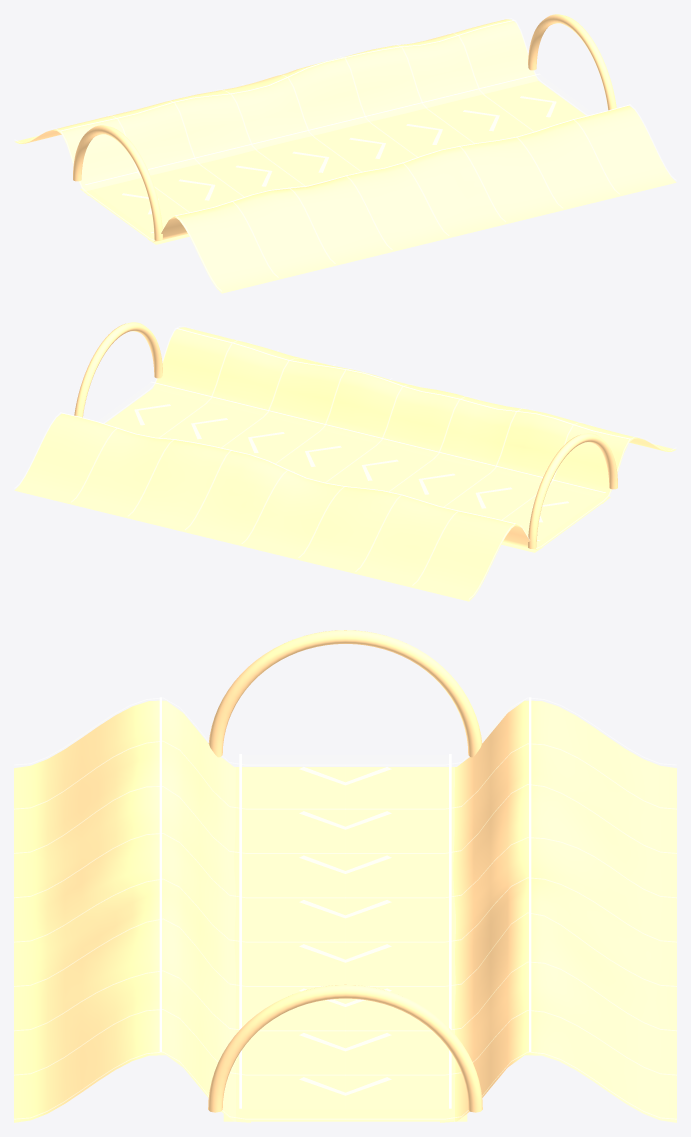
The model's file is stream_hologram.glb.
3 views of the same model, one above another, from view 1: azimuth 30°, elevation 25°; view 2: azimuth 150°, elevation 25°; view 3: azimuth 270°, elevation 25° (orthographic). The views are drawn at different scales.
Visible parts, largest first — view 1: StreamHologram_BankR, StreamHologram_BankL, StreamHologram_Bed, StreamHologram_Port_in_Ring1, StreamHologram_Port_out_Ring1, StreamHologram_CrestR, StreamHologram_CrestL, StreamHologram_EdgeL; view 2: StreamHologram_BankL, StreamHologram_BankR, StreamHologram_Bed, StreamHologram_Port_in_Ring1, StreamHologram_Port_out_Ring1, StreamHologram_CrestL, StreamHologram_CrestR, StreamHologram_EdgeR; view 3: StreamHologram_BankL, StreamHologram_BankR, StreamHologram_Bed, StreamHologram_Port_out_Ring1, StreamHologram_Port_in_Ring1, StreamHologram_CrestL, StreamHologram_CrestR, StreamHologram_Rib1, StreamHologram_Rib4, StreamHologram_Rib3, StreamHologram_Rib8, StreamHologram_EdgeL (+6 smaller).
Part boxes in pixels (left/top/right/bottom): StreamHologram_BankR: left=148, top=105, right=676, bottom=293; StreamHologram_BankL: left=14, top=19, right=538, bottom=195; StreamHologram_Bed: left=80, top=81, right=585, bottom=244; StreamHologram_Port_in_Ring1: left=73, top=125, right=162, bottom=240; StreamHologram_Port_out_Ring1: left=528, top=14, right=616, bottom=110; StreamHologram_CrestR: left=175, top=104, right=630, bottom=215; StreamHologram_CrestL: left=60, top=20, right=515, bottom=131; StreamHologram_EdgeL: left=85, top=73, right=540, bottom=184; StreamHologram_BankL: left=14, top=413, right=542, bottom=601; StreamHologram_BankR: left=152, top=327, right=676, bottom=503; StreamHologram_Bed: left=105, top=389, right=610, bottom=552; StreamHologram_Port_in_Ring1: left=528, top=433, right=617, bottom=548; StreamHologram_Port_out_Ring1: left=74, top=322, right=162, bottom=417; StreamHologram_CrestL: left=60, top=412, right=515, bottom=523; StreamHologram_CrestR: left=175, top=328, right=630, bottom=439; StreamHologram_EdgeR: left=150, top=381, right=605, bottom=492; StreamHologram_BankL: left=440, top=700, right=676, bottom=1122; StreamHologram_BankR: left=14, top=700, right=250, bottom=1122; StreamHologram_Bed: left=223, top=767, right=467, bottom=1121; StreamHologram_Port_out_Ring1: left=208, top=984, right=482, bottom=1112; StreamHologram_Port_in_Ring1: left=208, top=630, right=482, bottom=757; StreamHologram_CrestL: left=529, top=697, right=531, bottom=1051; StreamHologram_CrestR: left=159, top=697, right=161, bottom=1051; StreamHologram_Rib1: left=14, top=740, right=676, bottom=809; StreamHologram_Rib4: left=14, top=877, right=676, bottom=942; StreamHologram_Rib3: left=14, top=833, right=676, bottom=898; StreamHologram_Rib8: left=14, top=1051, right=676, bottom=1119; StreamHologram_EdgeL: left=449, top=754, right=451, bottom=1108.
Bounding box in the file's own units: 4.07 × 0.725 × 3.16.
